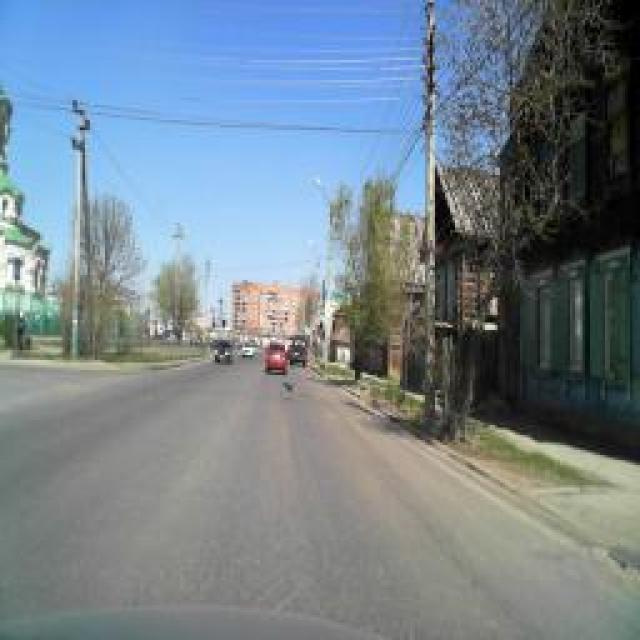sign: (325, 302, 333, 318)
